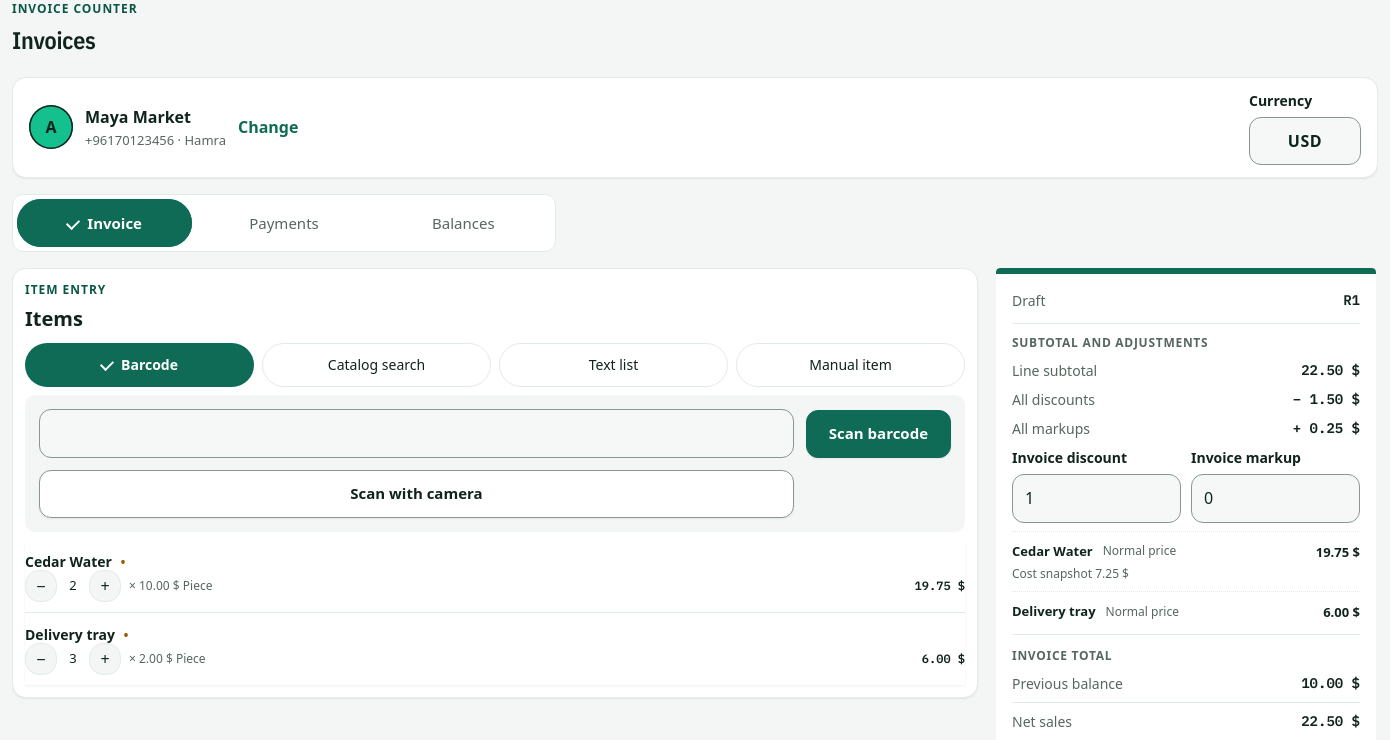
Test case: a changed draft shows the server-calculated total, not saved yet, and saving stays the only write (D-107)
This screenshot has width=1390, height=740.
Check: the text "Total (not saved yet)" is not shown
Replace the text in the field labelled "Invoice discount" with "2.5": point(1096, 498) [1012,474,1181,523]
(page scrolled)
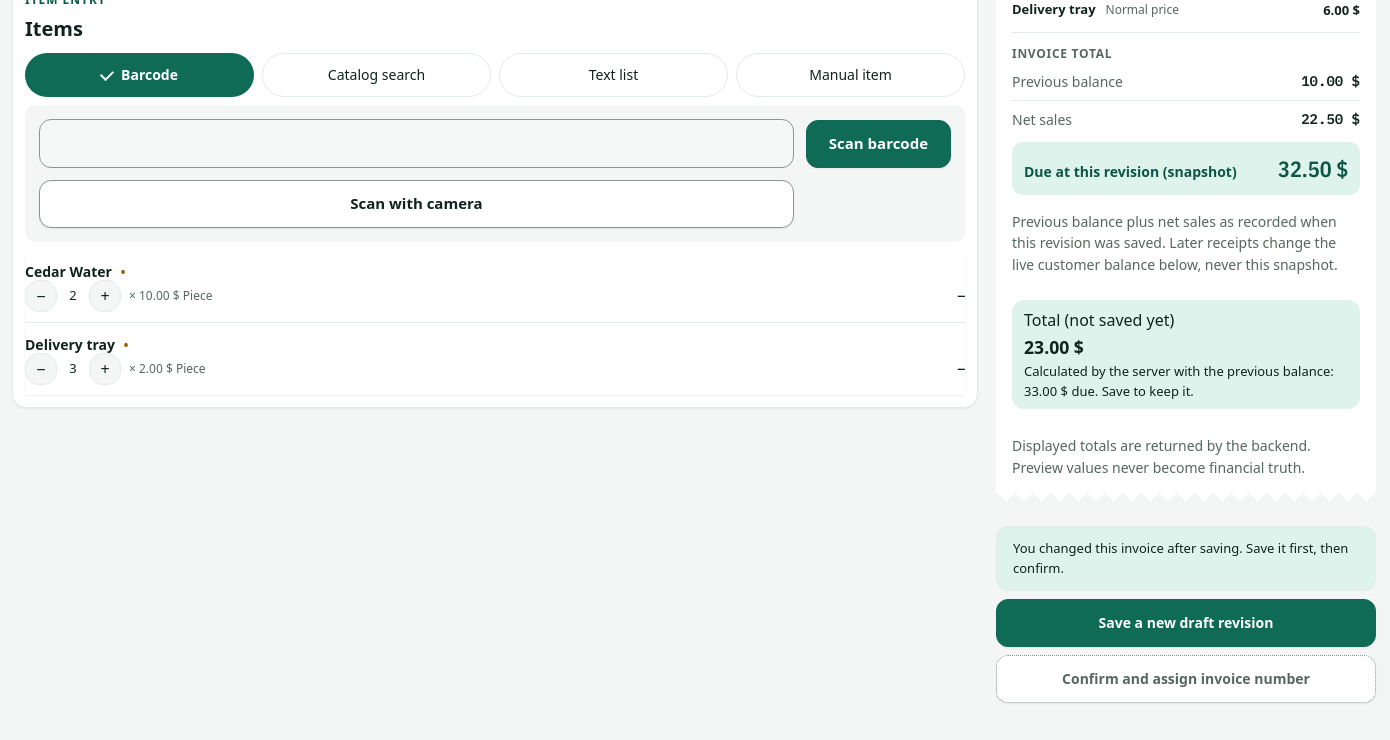
Check: the text "Total (not saved yet)" is shown, box [1024,309,1174,331]
Check: the text "23.00 $" is shown, box [1024,335,1084,359]
